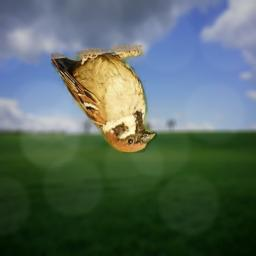Sparrow: (51, 45, 157, 153)
